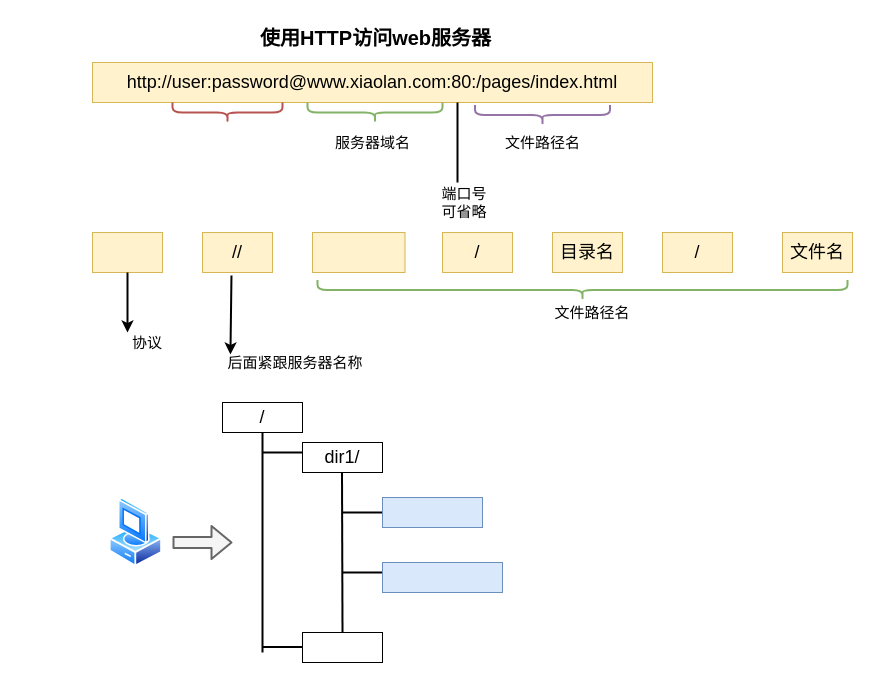
The diagram is 870 pixels wide and 680 high, and some of its shapes have lost their labels. Each missing label, with the centre of its shape:
"content.html" belongs at point 442,577.
"dir2" belongs at point 342,647.
"http：" belongs at point 127,252.
"index.html" belongs at point 432,512.
"web服务器名" belongs at point 358,252.
"用户名密码 (可省略)" belongs at point 227,112.
